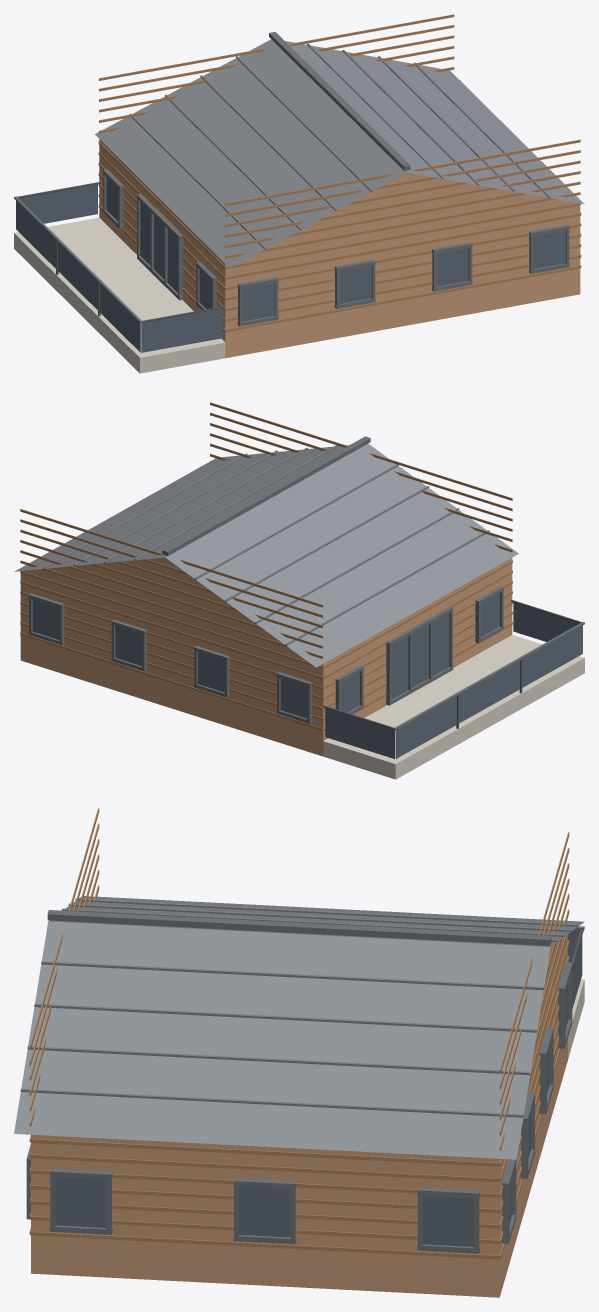
3 renders of one model, top to bottom at view 1: azimuth 30°, elevation 25°; view 2: azimuth 150°, elevation 25°; view 3: azimuth 270°, elevation 25°, orthographic. The views are drawn at different scales.
Parts seen in each view (by area): view 1: slate_lt, timber_stain, timber_stain_dk, deck_grey, slate_dk, slate, window_glass_005, window_glass_004, window_glass_002, window_glass_003, window_glass_001, window_glass_012 (+7 smaller); view 2: slate_lt, timber_stain, timber_stain_dk, deck_grey, slate_dk, slate, window_glass_004, window_glass_001, window_glass_002, window_glass_003, window_glass_005, window_glass_006 (+9 smaller); view 3: slate_lt, timber_stain, timber_stain_dk, slate_dk, slate, window_glass_016, window_glass_015, window_glass_017.
Boxes of the visible parts, <box> form: slate_lt: <box>95,39,584,267</box>; timber_stain: <box>99,80,580,358</box>; timber_stain_dk: <box>98,14,581,332</box>; deck_grey: <box>14,217,225,373</box>; slate_dk: <box>14,32,569,326</box>; slate: <box>129,43,550,249</box>; window_glass_005: <box>141,308,222,352</box>; window_glass_004: <box>19,184,97,223</box>; window_glass_002: <box>58,242,97,309</box>; window_glass_003: <box>100,284,140,352</box>; window_glass_001: <box>16,201,55,268</box>; window_glass_012: <box>339,265,371,303</box>; slate_lt: <box>15,443,518,667</box>; timber_stain: <box>20,557,512,756</box>; timber_stain_dk: <box>20,402,512,730</box>; deck_grey: <box>323,635,584,779</box>; slate_dk: <box>28,436,584,730</box>; slate: <box>43,445,489,645</box>; window_glass_004: <box>325,708,394,758</box>; window_glass_001: <box>395,696,456,758</box>; window_glass_002: <box>459,661,519,723</box>; window_glass_003: <box>522,625,582,687</box>; window_glass_005: <box>513,602,579,641</box>; window_glass_006: <box>391,636,408,698</box>; slate_lt: <box>14,896,584,1159</box>; timber_stain: <box>31,906,567,1297</box>; timber_stain_dk: <box>29,808,569,1259</box>; slate_dk: <box>26,910,584,1253</box>; slate: <box>20,898,578,1117</box>; window_glass_016: <box>239,1186,290,1237</box>; window_glass_015: <box>55,1177,106,1227</box>; window_glass_017: <box>422,1196,473,1246</box>.
Size of the model in its own units: 13.38 by 4.7 by 10.06.
